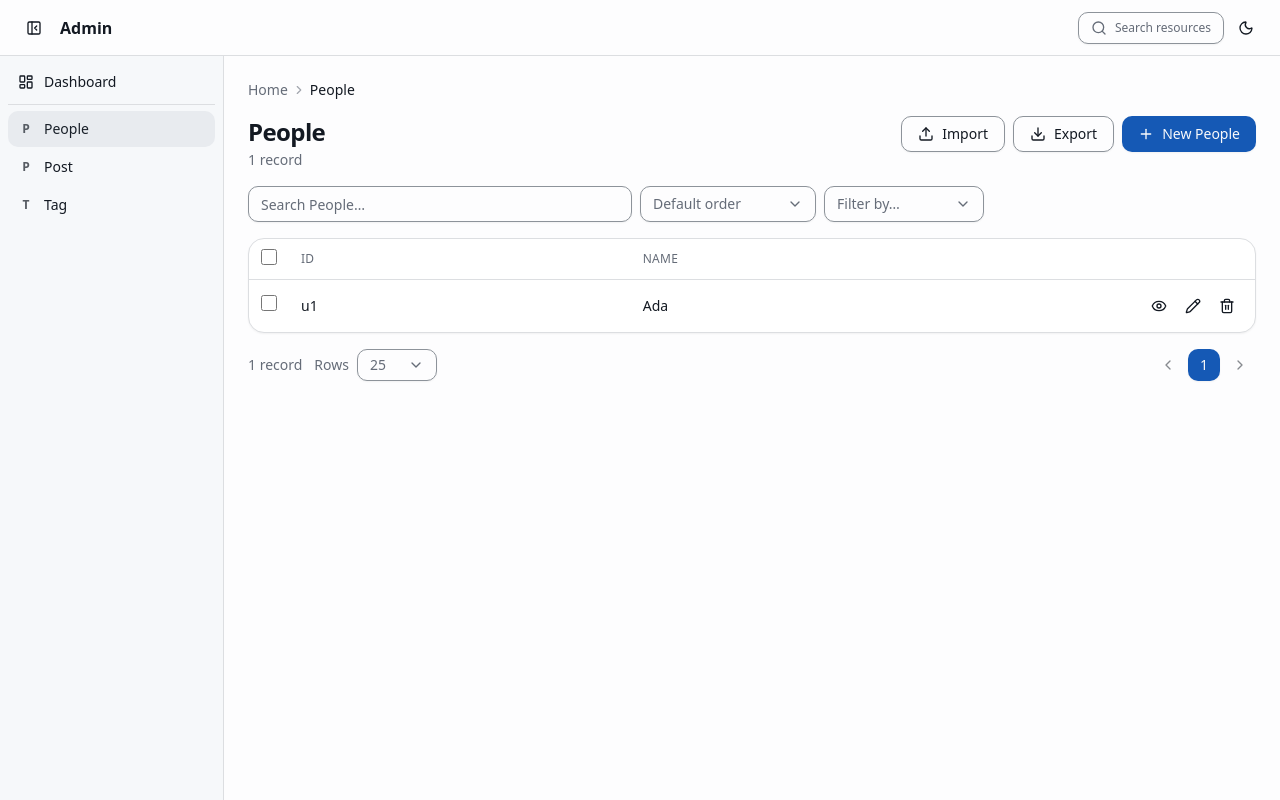
Scenario: the resource list › collapses to a rail rather than disappearing
Check: the table is shown, box 249,239 -> 1255,332
Click the button named "Collapse navigation" at x=34, y=28, box 16,10 -> 52,46
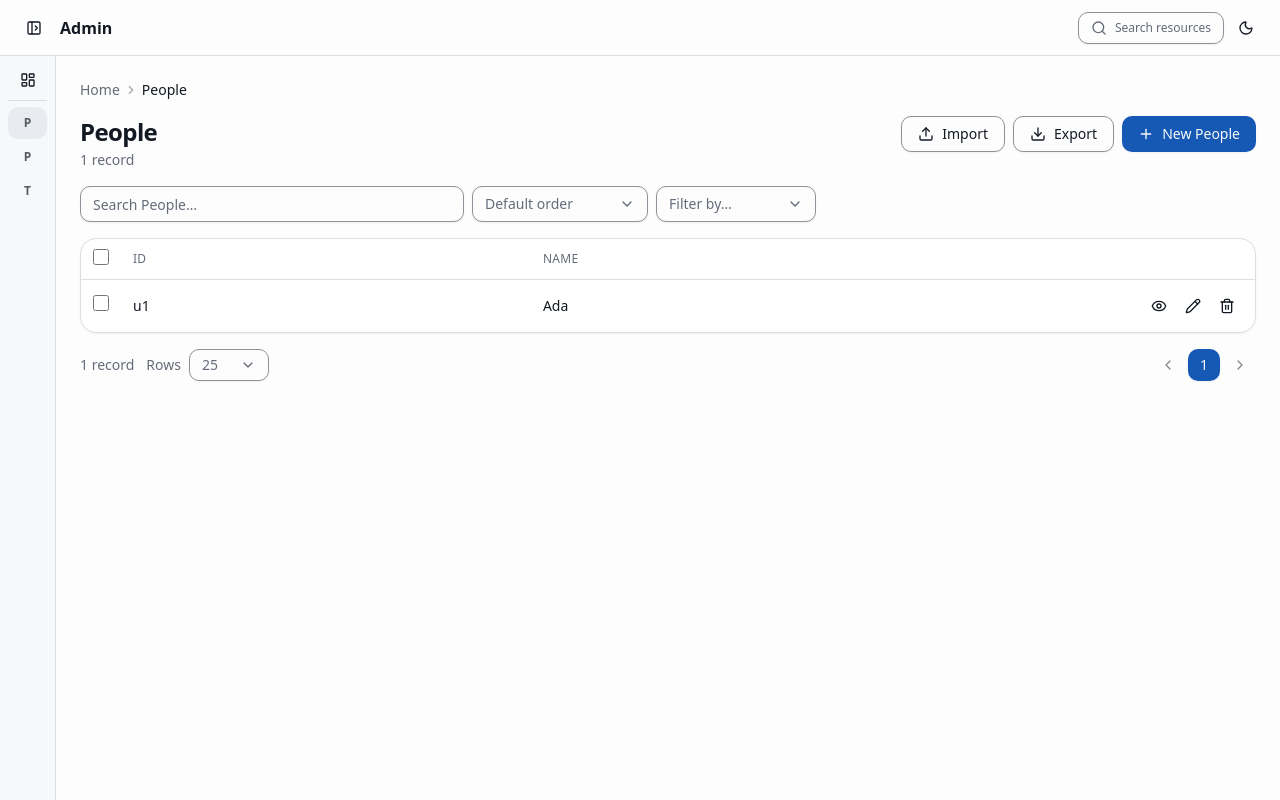
Check: the link named "People" is shown, box 8,107 -> 47,139
Check: the button named "Expand navigation" is shown, box 16,10 -> 52,46
